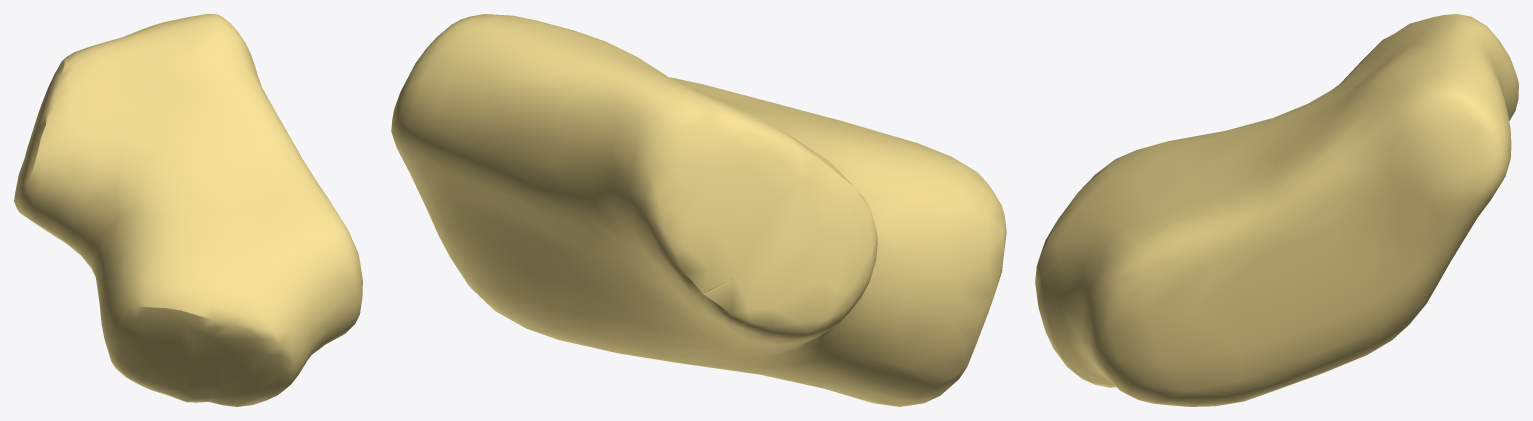
File: fma62045_fj7503.glb
3 renders of one model, left to right at view 1: azimuth 30°, elevation 25°; view 2: azimuth 150°, elevation 25°; view 3: azimuth 270°, elevation 25°, orthographic. The views are drawn at different scales.
Parts seen in each view (by area): view 1: FMA62045_FJ7503; view 2: FMA62045_FJ7503; view 3: FMA62045_FJ7503.
Part boxes in pixels (box(x1,y1,x2,y2)): FMA62045_FJ7503: box(14, 14, 362, 406); FMA62045_FJ7503: box(391, 14, 1006, 406); FMA62045_FJ7503: box(1035, 14, 1518, 406).
Size of the model in its own units: 0.00817 by 0.00856 by 0.0103.
